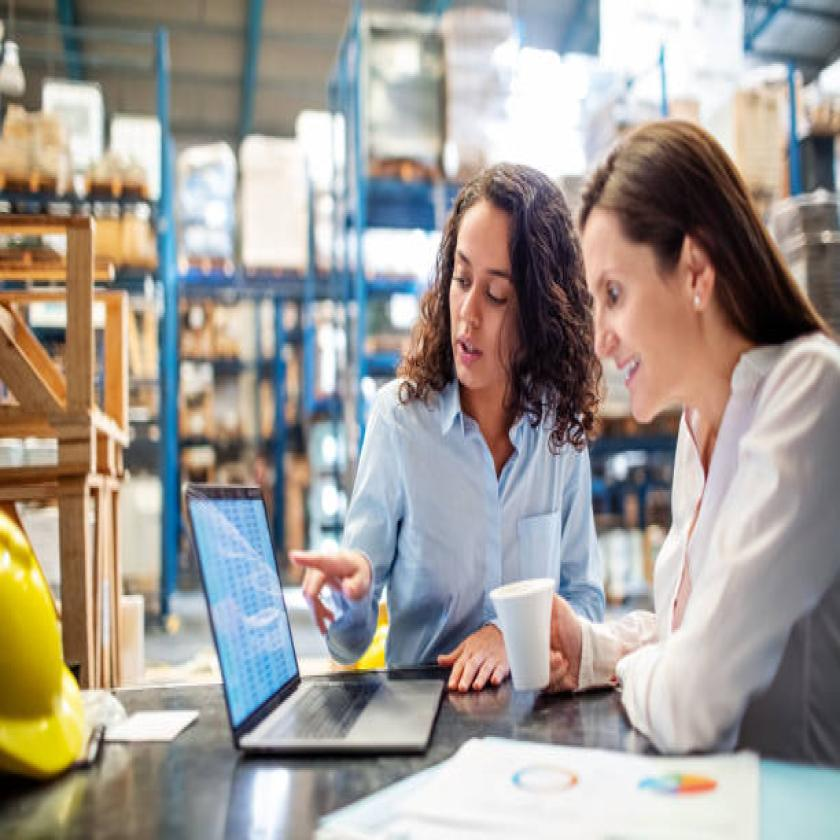Sin_casco: (588, 98, 763, 445), (410, 141, 578, 418)
